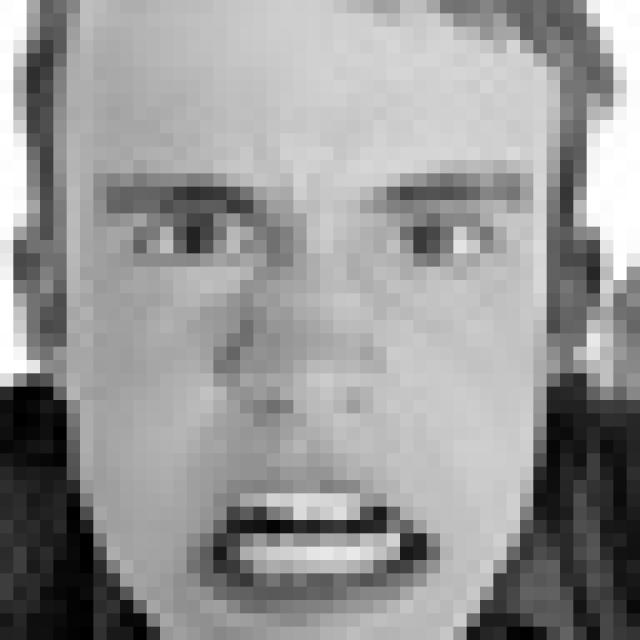angry: (89, 153, 541, 622)
